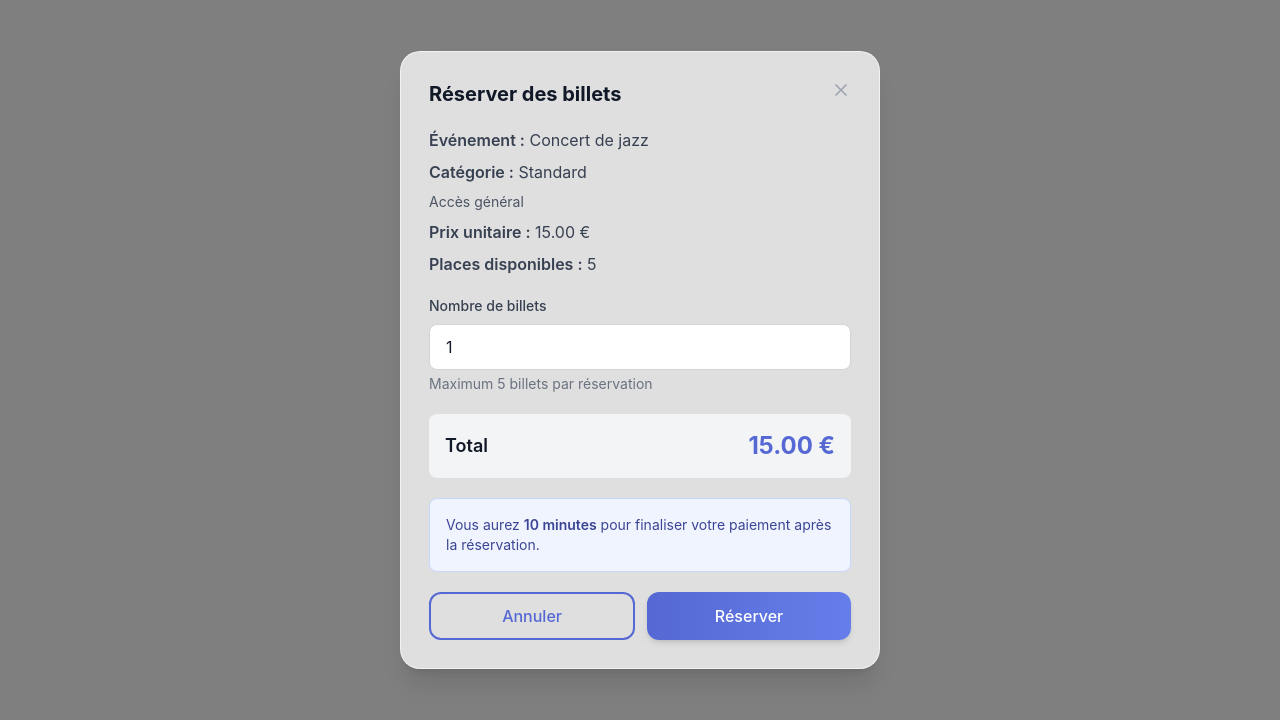
Scenario: BookingModal › shows an error message when the booking fails
Click the button "Réserver" at (749, 616), box [647, 592, 851, 640]
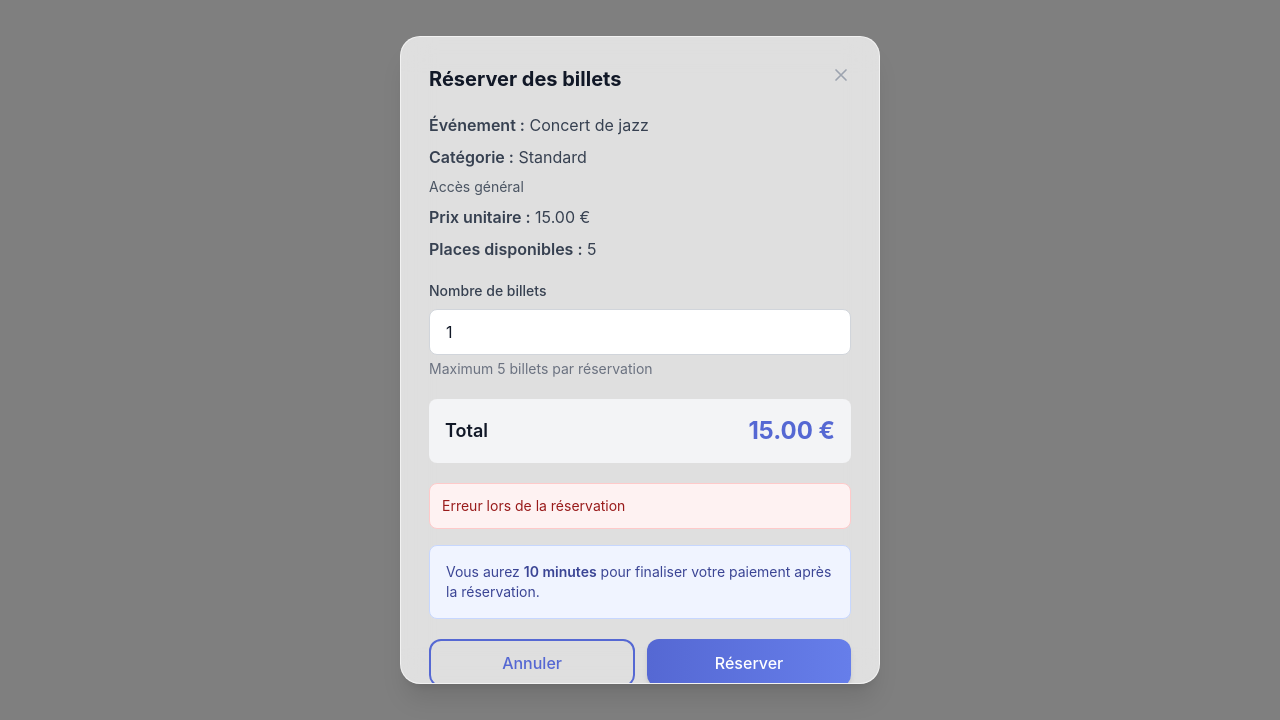
Result: the message reads "Erreur lors de la réservation" at [442, 497, 625, 514]
